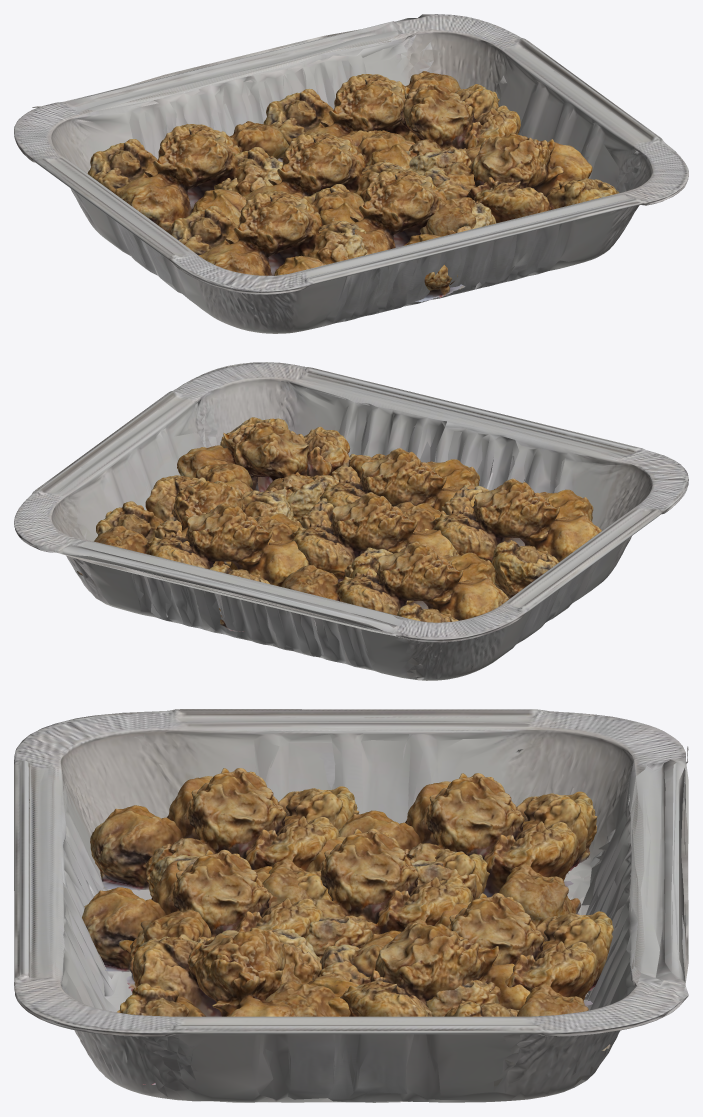
Rendered from gharch.sokhari.glb.
The picture shows the model from 3 angles, top to bottom: view 1: azimuth 30°, elevation 25°; view 2: azimuth 150°, elevation 25°; view 3: azimuth 270°, elevation 25°; orthographic projection. The views are drawn at different scales.
Parts seen in each view (by area): view 1: node_0, 3DModel.003 (×7); view 2: node_0, 3DModel.003 (×7); view 3: node_0, 3DModel.003 (×7).
Part boxes in pixels (box(x1,y1,x2,y2)): node_0: box(14, 14, 688, 333); 3DModel.003 (×7): box(87, 71, 618, 302); node_0: box(14, 362, 688, 680); 3DModel.003 (×7): box(77, 417, 601, 631); node_0: box(14, 709, 688, 1102); 3DModel.003 (×7): box(82, 768, 613, 1084).
Bounding box in the file's own units: 0.3177 × 0.0588 × 0.2808.
2 materials, 2 textured.
